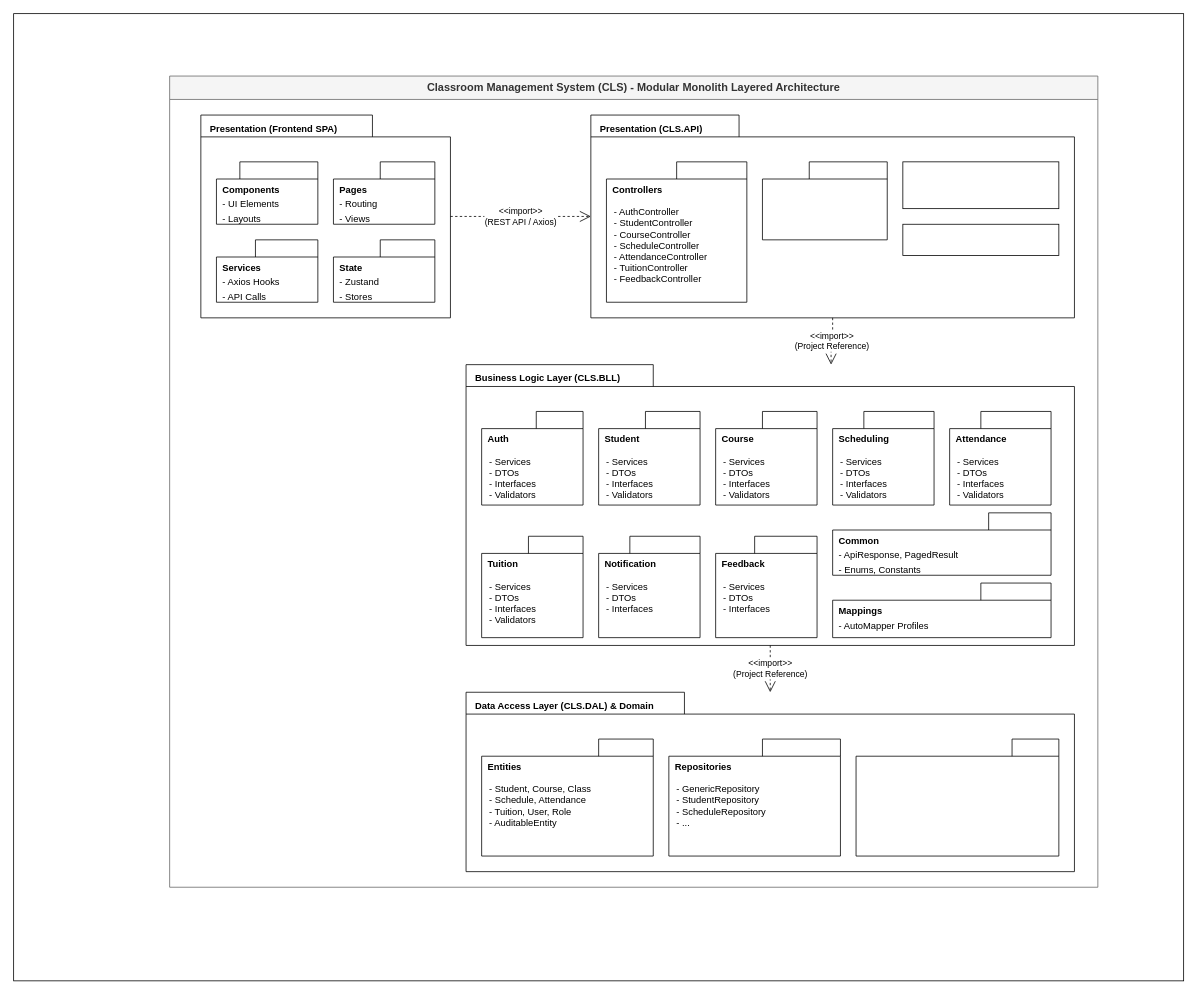
Image size: 1197x994. Some labels were removed from this diagram. Here are the shapes that lost their labels. From the top down, the centre of each, then its label:
At (824,200): "Middlewares - JwtMiddleware - ExceptionMiddleware - CorsMiddleware".
At (980,185): "Program.cs appsettings.json".
At (980,239): "Dependency Injection".
At (957,797): "Data - AppDbContext - EntityTypeConfigurations - Migrations - SeedData".
